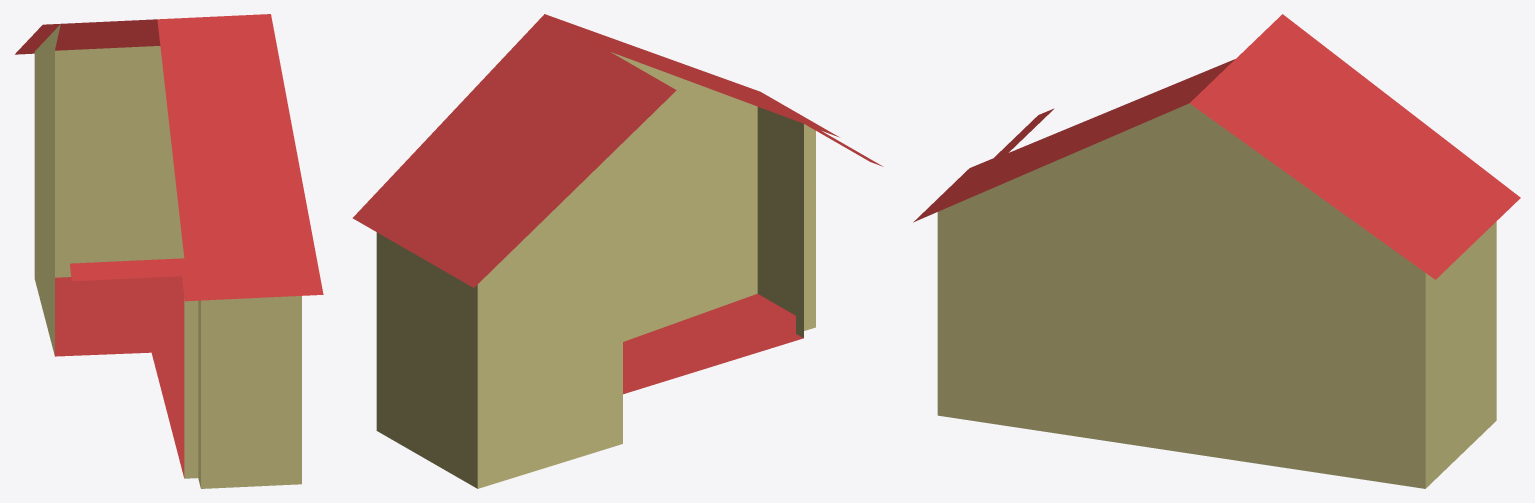
3 views of the same model, side by side, from view 1: azimuth 30°, elevation 25°; view 2: azimuth 150°, elevation 25°; view 3: azimuth 270°, elevation 25° (orthographic). The views are drawn at different scales.
Size of the model in its own units: 11.03 by 16.49 by 10.73.
